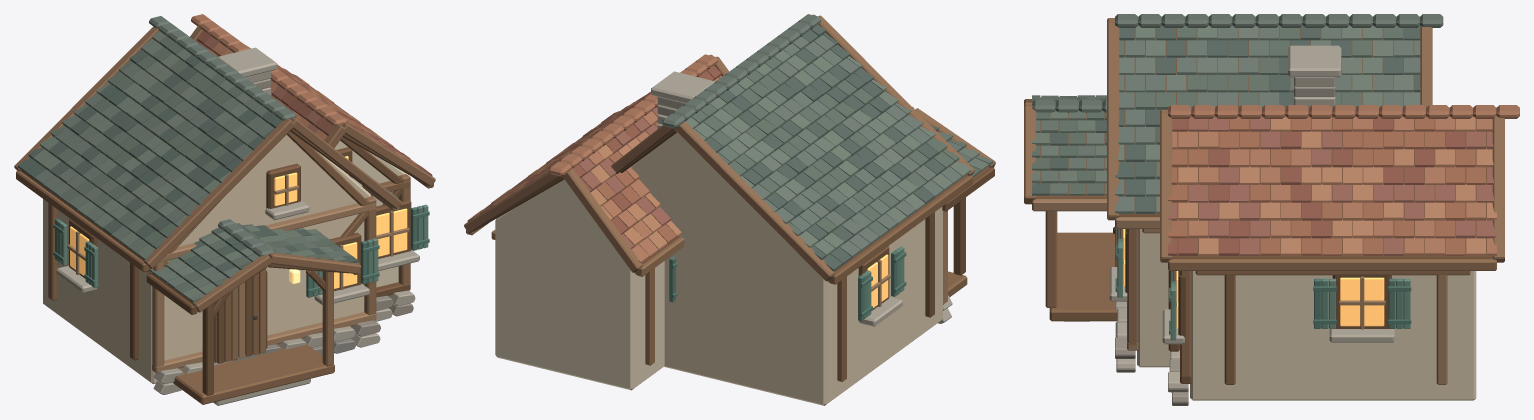
File: wing.glb
3 renders of one model, left to right at view 1: azimuth 30°, elevation 25°; view 2: azimuth 150°, elevation 25°; view 3: azimuth 270°, elevation 25°, orthographic. The views are drawn at different scales.
Visible parts, largest first — view 1: wing Warm limewash 01, wing Slate green shingles 03, wing Oiled oak 02, wing Slate green shingles 04, wing Slate green shingles 01, wing Slate green shingles 02, wing Oak end grain 01, wing Oiled oak 01, wing Warm slate 03, wing Oiled oak 04, wing Oiled oak 03, wing Fired clay 03 (+12 smaller); view 2: wing Warm limewash 01, wing Warm limewash 03, wing Slate green shingles 03, wing Slate green shingles 01, wing Slate green shingles 02, wing Slate green shingles 04, wing Oak end grain 01, wing Fired clay 03, wing Oiled oak 01, wing Oiled oak 02, wing Fired clay 05, wing Fired clay 04 (+6 smaller); view 3: wing Warm limewash 03, wing Slate green shingles 03, wing Fired clay 03, wing Fired clay 02, wing Fired clay 05, wing Fired clay 04, wing Oiled oak 03, wing Oiled oak 01, wing Slate green shingles 04, wing Oak end grain 01, wing Slate green shingles 02, wing Slate green shingles 01 (+12 smaller).
Boxes of the visible parts, x1,y1,x2,y2 form: wing Warm limewash 01: (43,135,371,383); wing Slate green shingles 03: (35,16,397,302); wing Oiled oak 02: (16,131,410,404); wing Slate green shingles 04: (33,31,380,300); wing Slate green shingles 01: (18,50,358,273); wing Slate green shingles 02: (50,36,343,294); wing Oak end grain 01: (14,26,435,312); wing Oiled oak 01: (21,128,427,395); wing Warm slate 03: (56,47,419,405); wing Oiled oak 04: (152,185,399,373); wing Oiled oak 03: (164,174,433,366); wing Fired clay 03: (191,14,412,162); wing Warm limewash 01: (631,132,942,405); wing Warm limewash 03: (495,179,664,390); wing Slate green shingles 03: (662,14,993,258); wing Slate green shingles 01: (705,24,945,271); wing Slate green shingles 02: (691,57,980,237); wing Slate green shingles 04: (685,50,988,256); wing Oak end grain 01: (464,14,995,281); wing Fired clay 03: (467,54,719,262); wing Oiled oak 01: (473,129,994,317); wing Oiled oak 02: (635,175,972,381); wing Fired clay 05: (473,93,681,250); wing Fired clay 04: (480,98,670,248); wing Warm limewash 03: (1190,271,1476,400); wing Slate green shingles 03: (1032,14,1443,213); wing Fired clay 03: (1168,105,1519,255); wing Fired clay 02: (1168,116,1485,255); wing Fired clay 05: (1178,116,1496,255); wing Fired clay 04: (1168,116,1496,255); wing Oiled oak 03: (1045,211,1496,376); wing Oiled oak 01: (1036,25,1492,383); wing Slate green shingles 04: (1032,25,1420,213); wing Oak end grain 01: (1024,18,1504,262); wing Slate green shingles 02: (1032,25,1403,195); wing Slate green shingles 01: (1032,25,1420,213).
Size of the model in its own units: 6.36 by 4.89 by 7.19.
